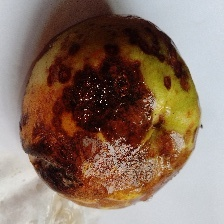guava: (14, 33, 194, 224)
